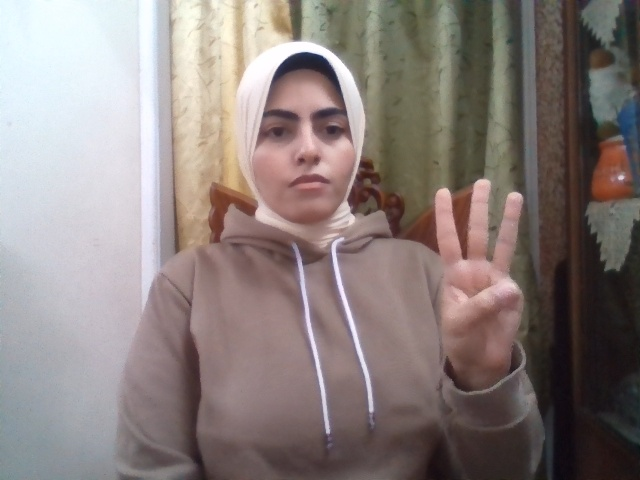W: (434, 178, 524, 374)
